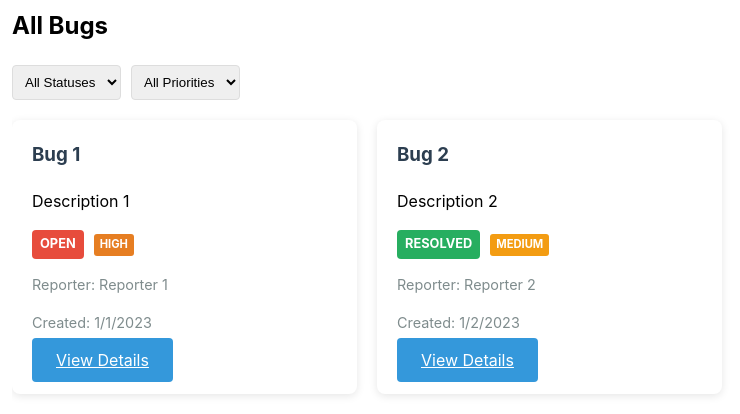
Test: BugList Component Integration › filters bugs by priority
Check: the heading "Bug 1" is shown, box [32, 143, 80, 166]
Select "High" in the 2nd dropdown showing "All Priorities" at (186, 83), box [131, 65, 240, 100]
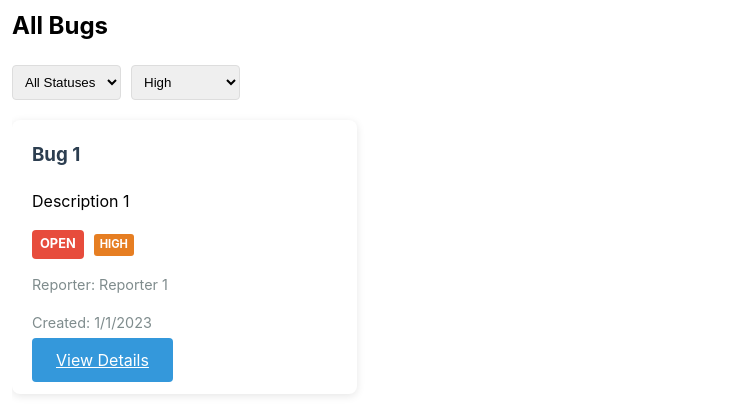
Check: the heading "Bug 1" is shown, box [32, 143, 80, 166]
Check: the heading "Bug 2" is gone
